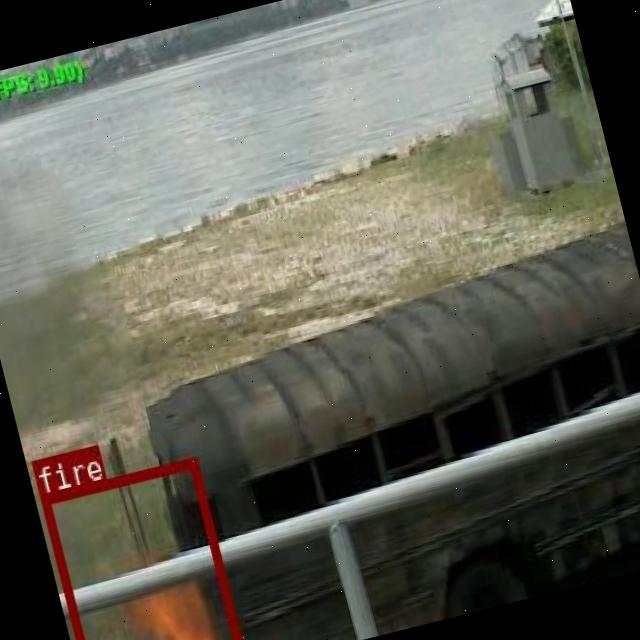fire: (38, 454, 245, 640)
